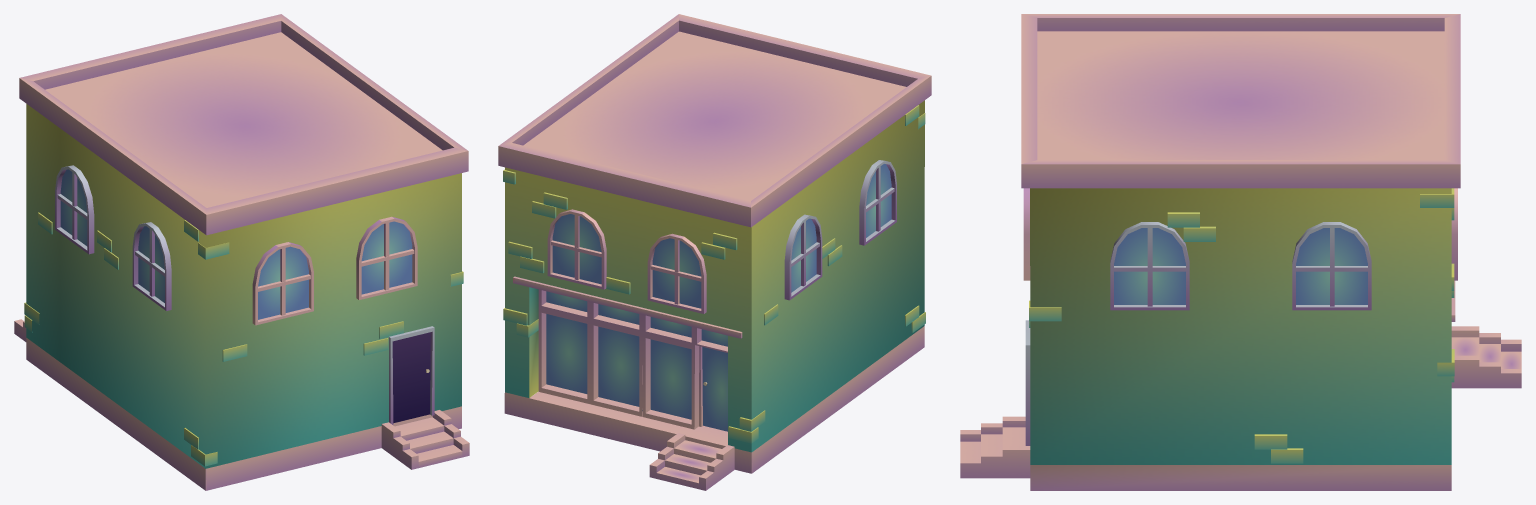
3 views of the same model, side by side, from view 1: azimuth 30°, elevation 25°; view 2: azimuth 150°, elevation 25°; view 3: azimuth 270°, elevation 25° (orthographic). The views are drawn at different scales.
Parts seen in each view (by area): view 1: SM_2F_03; view 2: SM_2F_03; view 3: SM_2F_03.
Boxes of the visible parts, box(x1,y1,x2,y2) form: SM_2F_03: box(14, 14, 469, 490); SM_2F_03: box(498, 14, 931, 490); SM_2F_03: box(960, 14, 1521, 490).
Bounding box in the file's own units: 7.78 × 12.09 × 7.81.
